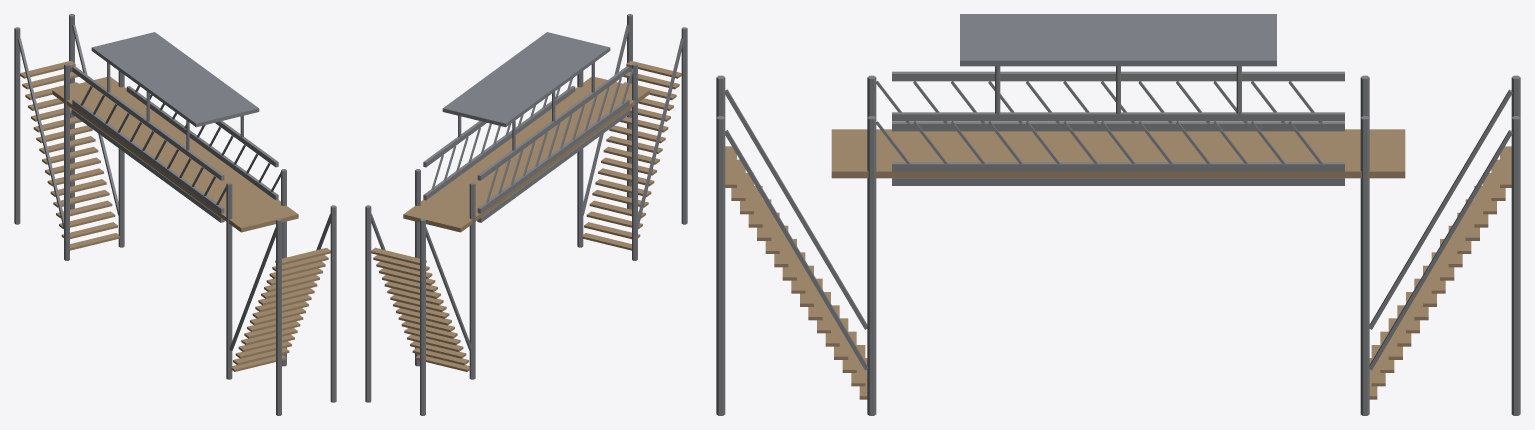
Rendered from steam-era-railway-and-rolling-stock-footbridge-59be8b67.glb.
3 views of the same model, side by side, from view 1: azimuth 30°, elevation 25°; view 2: azimuth 150°, elevation 25°; view 3: azimuth 270°, elevation 25° (orthographic). The views are drawn at different scales.
Parts seen in each view (by area): view 1: footbridge; view 2: footbridge; view 3: footbridge.
Boxes of the visible parts, left/top/right/bottom form: footbridge: left=14, top=14, right=336, bottom=415; footbridge: left=365, top=14, right=687, bottom=415; footbridge: left=716, top=14, right=1520, bottom=415.
Size of the model in its own units: 2.2 by 7.82 by 15.98.
